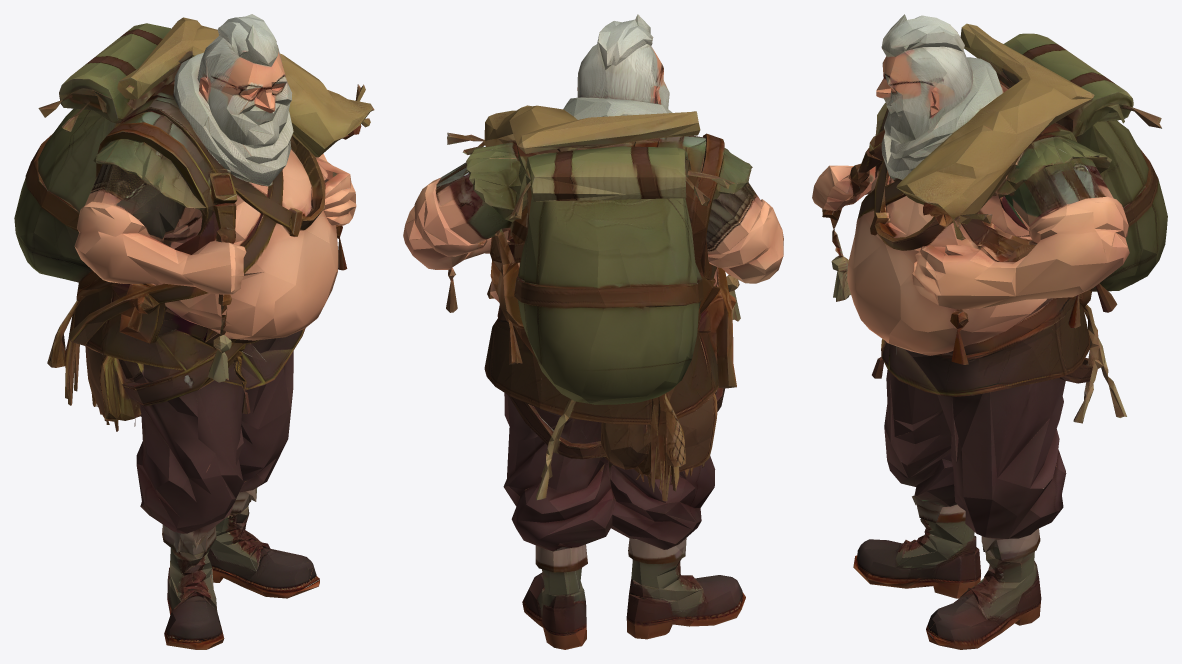
File: npc_merchant.glb
The picture shows the model from 3 angles, left to right: view 1: azimuth 30°, elevation 25°; view 2: azimuth 150°, elevation 25°; view 3: azimuth 270°, elevation 25°; orthographic projection.
Bounding box in the file's own units: 1.03 × 1.9 × 1.02.
1 material, 1 textured.
